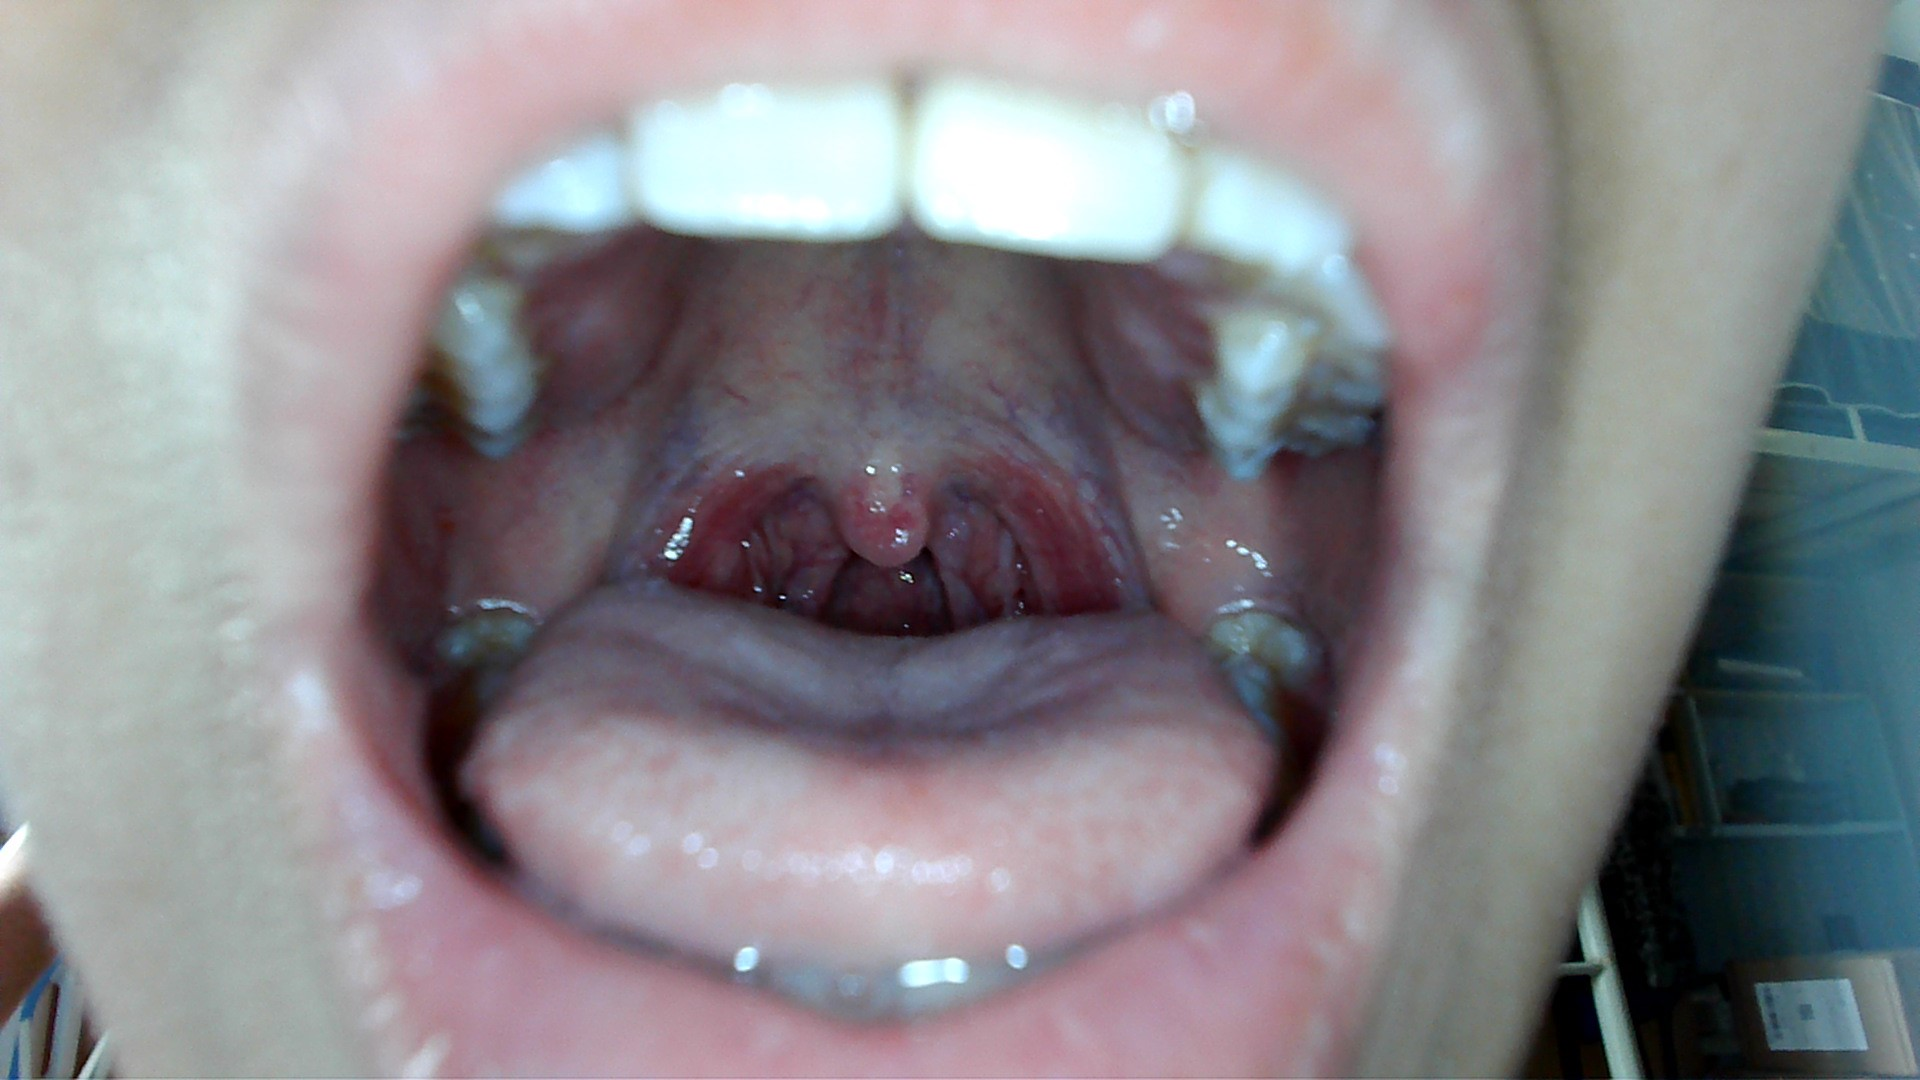throat: (986, 436, 1118, 612), (638, 429, 774, 588)
